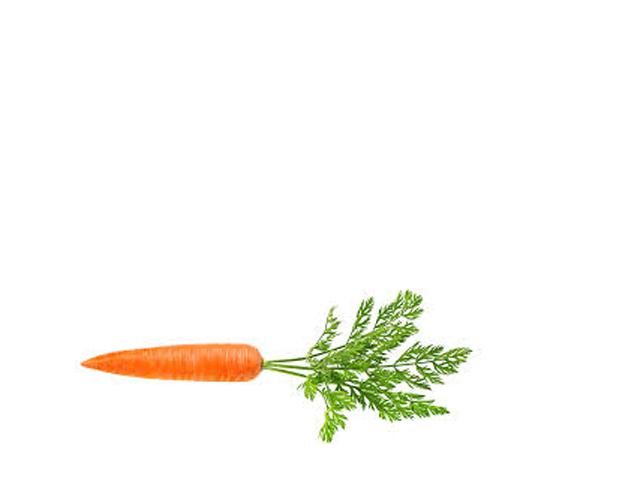carrot: (72, 341, 268, 391)
